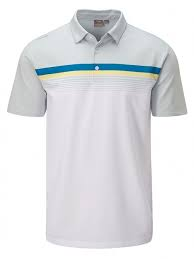C_polo shirt: (16, 11, 194, 252)
